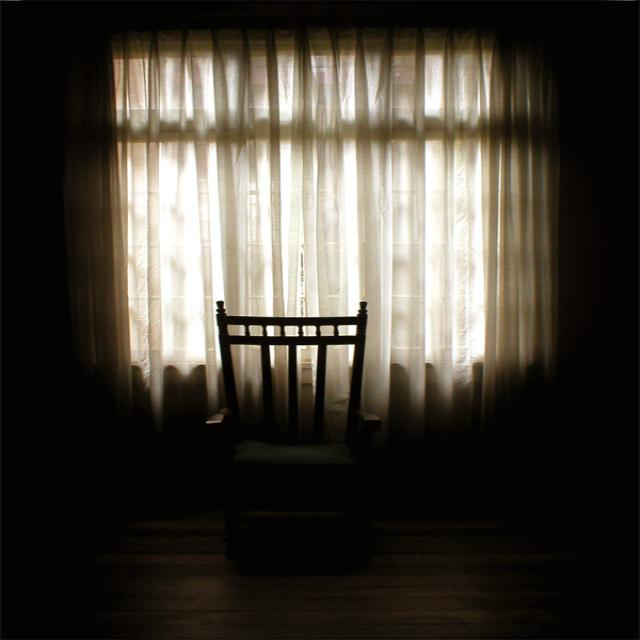chair: (178, 280, 424, 538)
